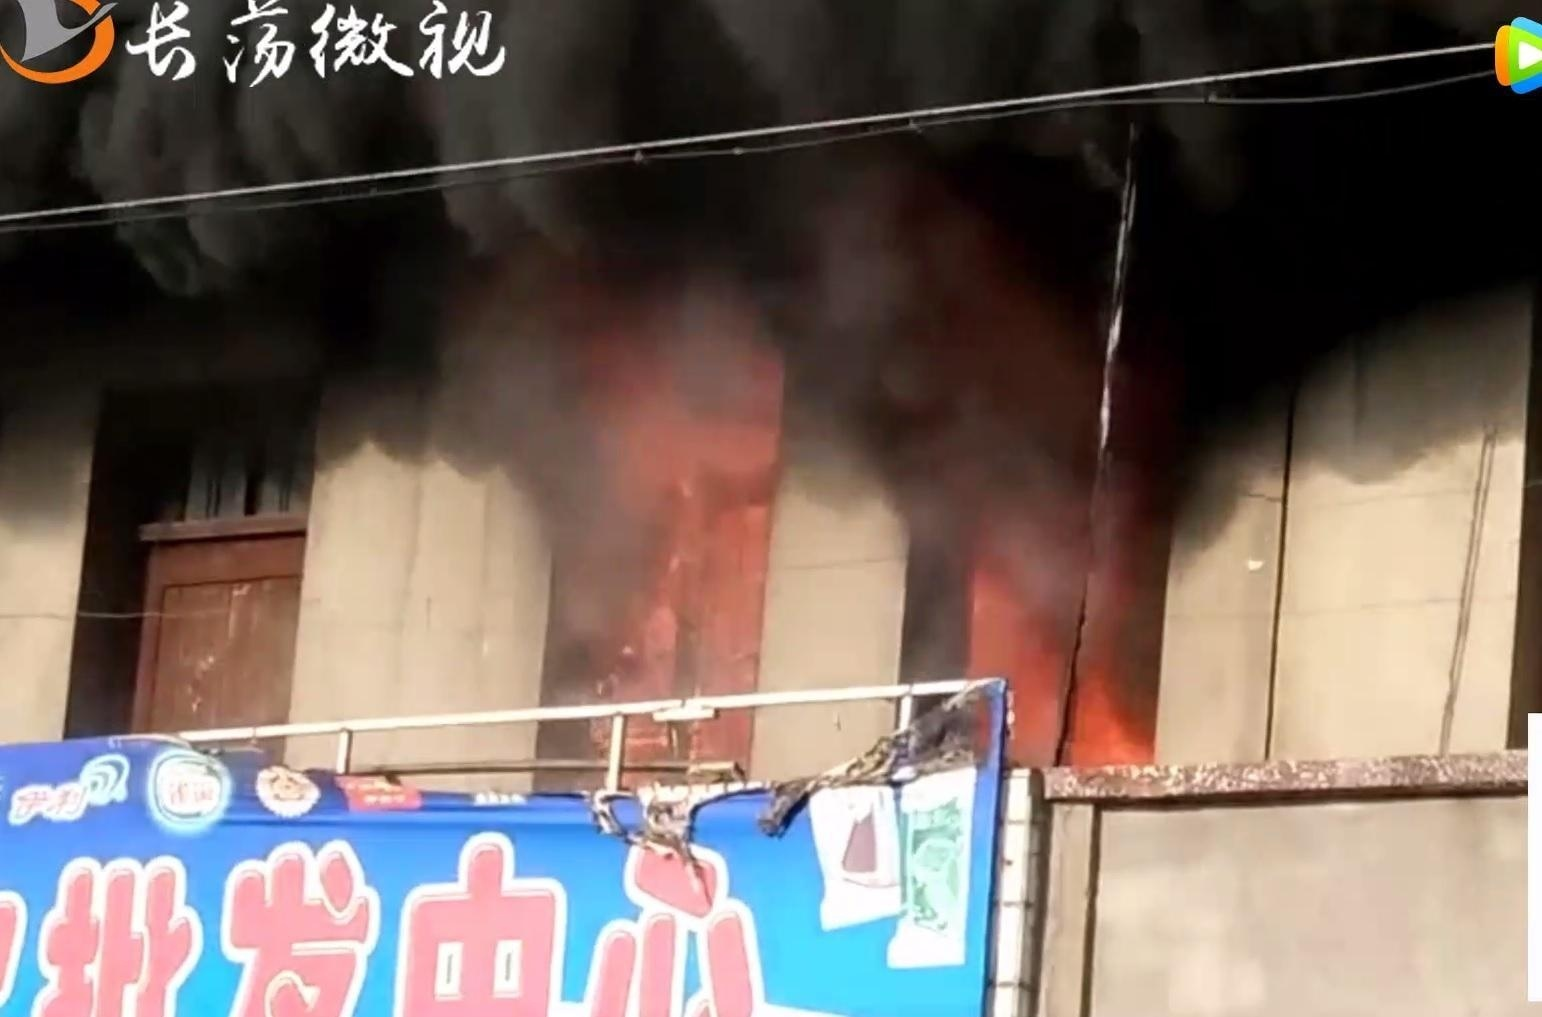fire: (1072, 681, 1151, 763)
